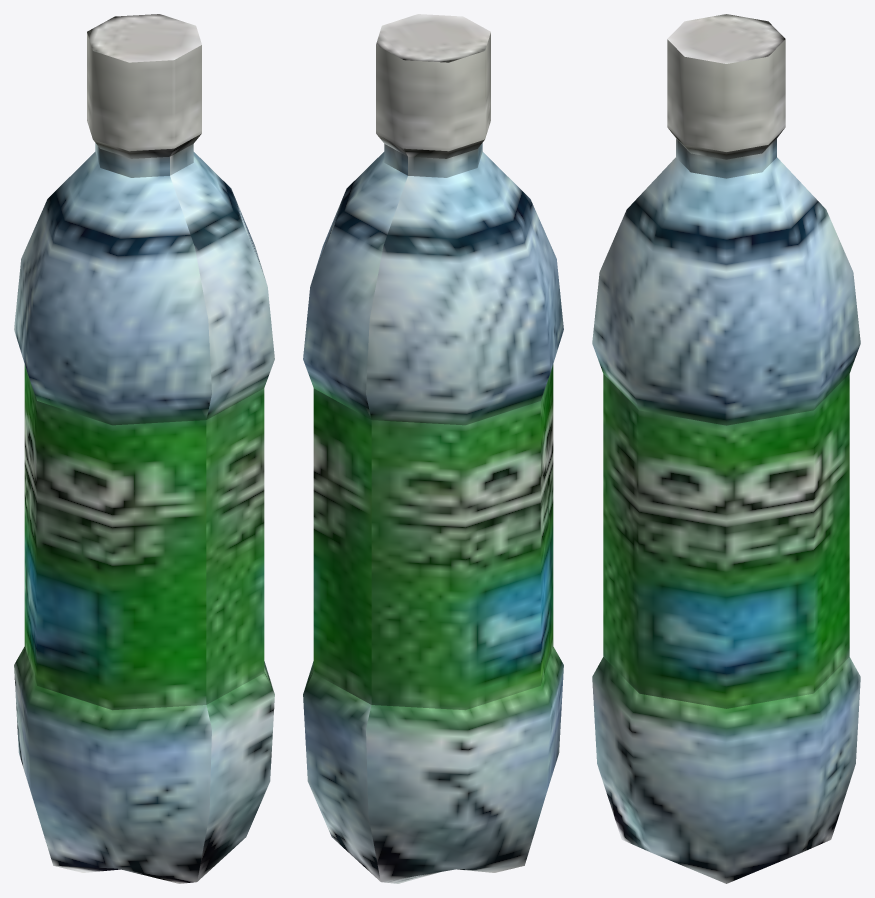
Rendered from Water_bottle.glb.
3 renders of one model, left to right at view 1: azimuth 30°, elevation 25°; view 2: azimuth 150°, elevation 25°; view 3: azimuth 270°, elevation 25°, orthographic.
Parts seen in each view (by area): view 1: 0_Water_bottle; view 2: 0_Water_bottle; view 3: 0_Water_bottle.
Boxes of the visible parts, x1,y1,x2,y2 form: 0_Water_bottle: (14, 14, 274, 883); 0_Water_bottle: (303, 14, 563, 883); 0_Water_bottle: (592, 14, 860, 883).
Bounding box in the file's own units: 0.0796 × 0.2664 × 0.0796.
1 material, 1 textured.
